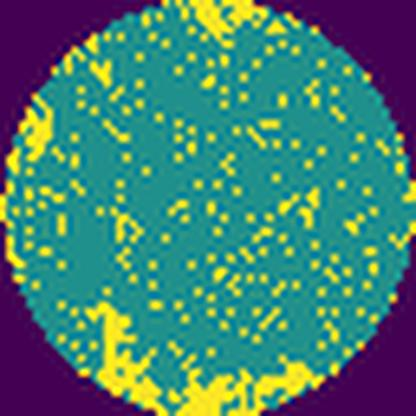Edge-Loc: (167, 342, 331, 416), (78, 296, 167, 416), (180, 0, 278, 47), (13, 89, 64, 162)
